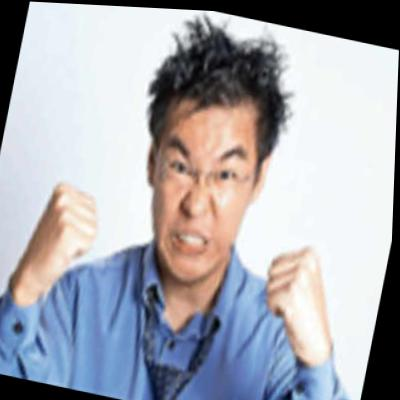angry: (143, 81, 269, 282)
